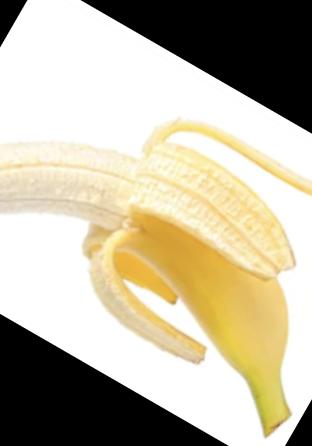Banana Ripe: (0, 32, 312, 446)
